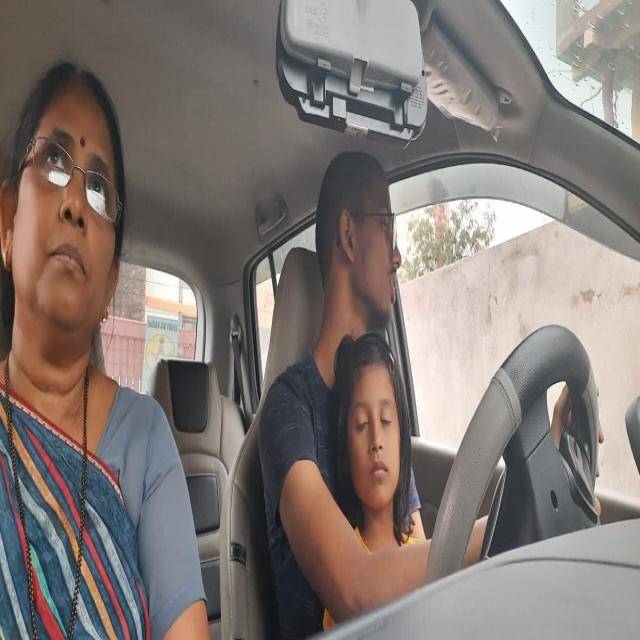LeftRight: (315, 148, 404, 322)
child: (334, 343, 409, 508)
person: (8, 74, 126, 330)
